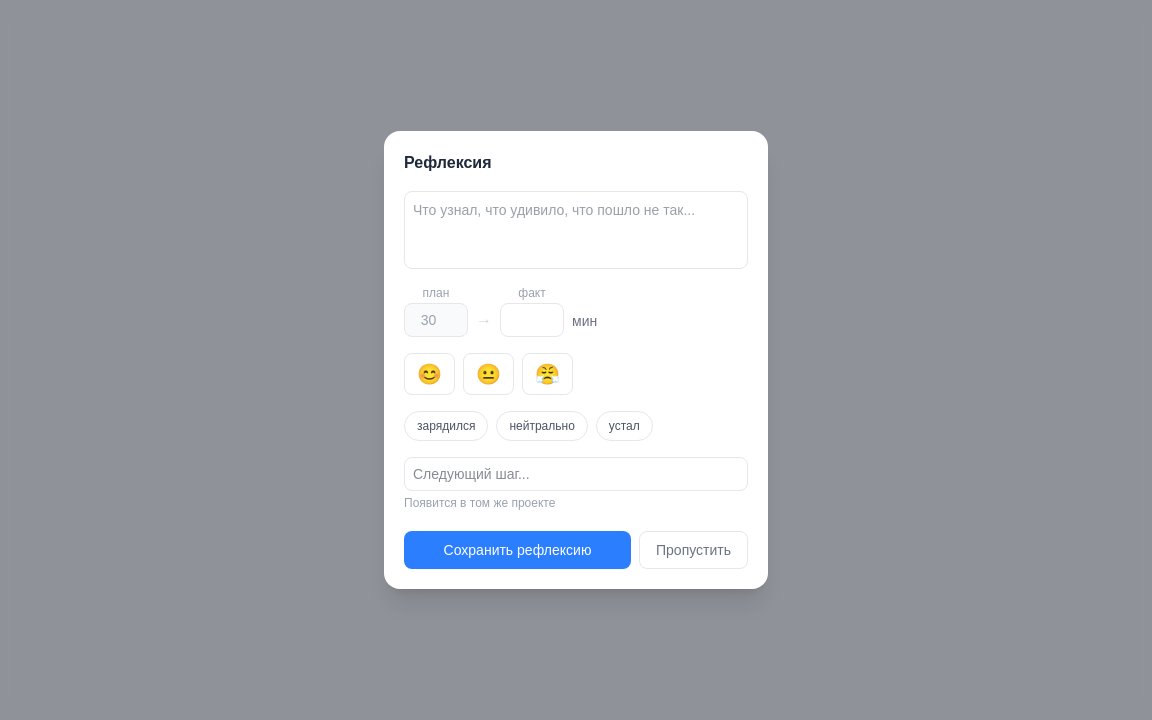
Test case: ReflectionModal › shows orange diff when actual > estimated
The image size is (1152, 720).
Step 1. Type "45" into the number field named "факт мин" → (532, 320), box left=500, top=303, right=564, bottom=337
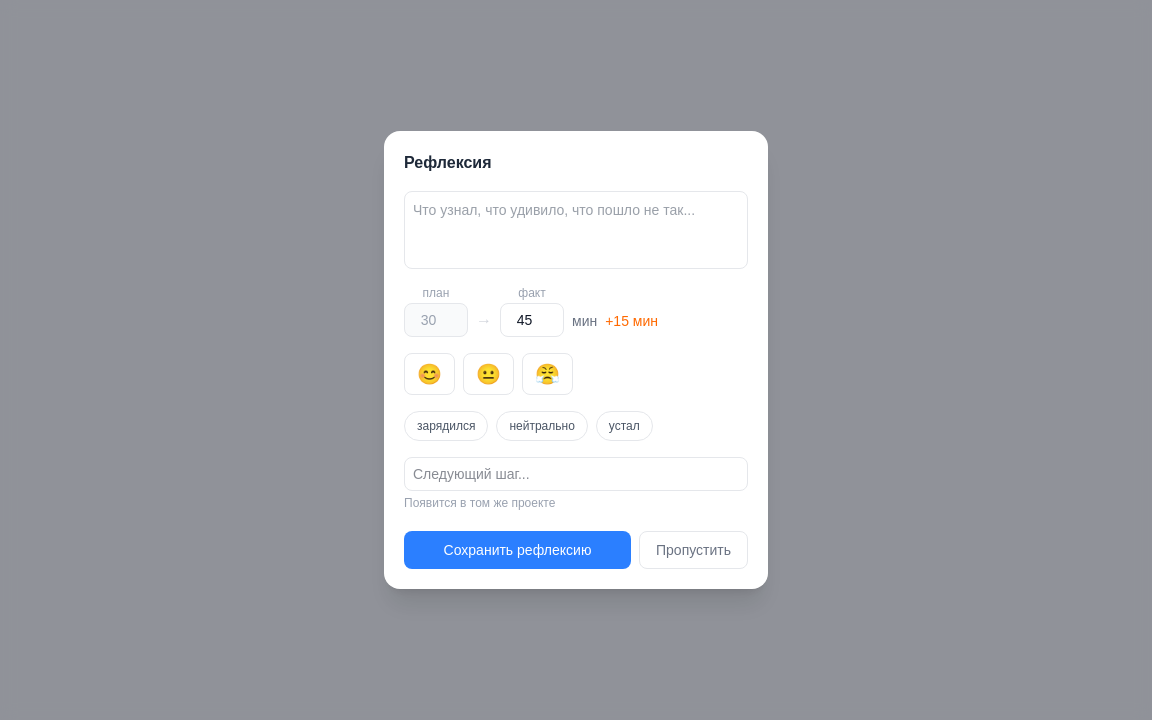
expect the text "+15 мин" is shown: met, box left=605, top=311, right=658, bottom=331
